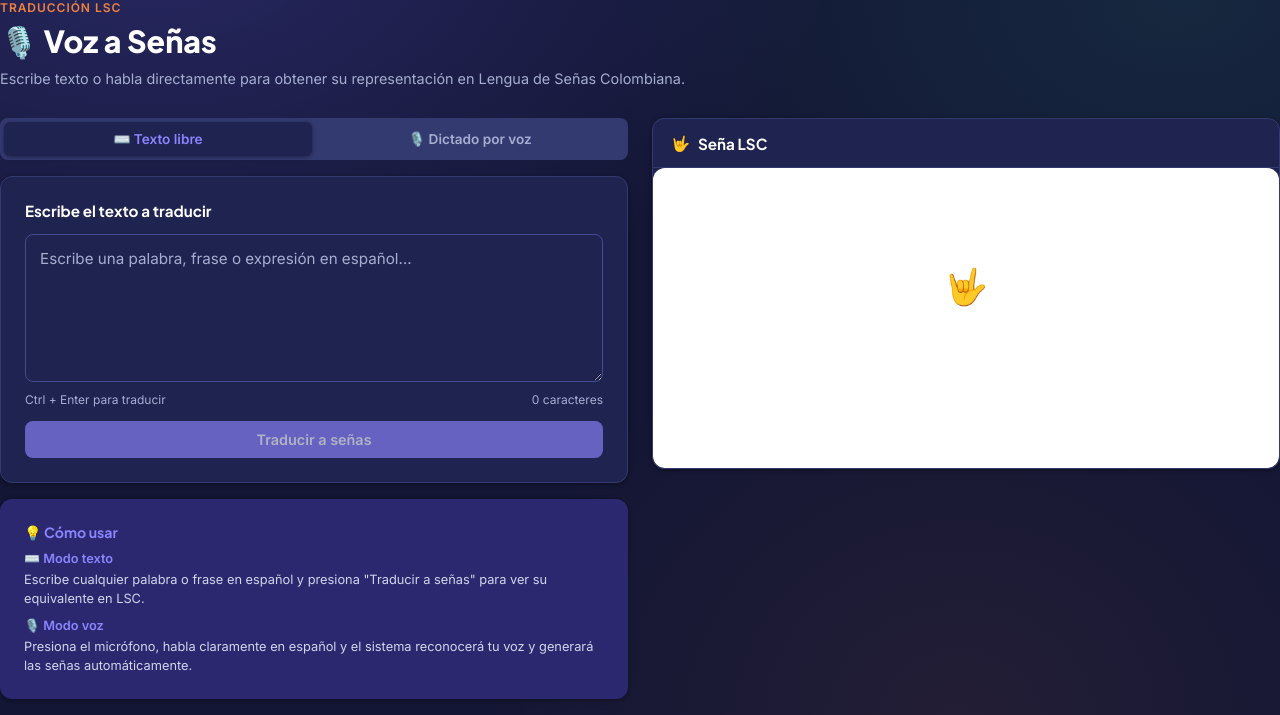
Test case: VoiceToSign › should show an error when the API explains the problem
Type "123" into the text box with placeholder "Escribe una palabra, frase o expresión en español…". click: (314, 308)
box: [25,234,603,382]
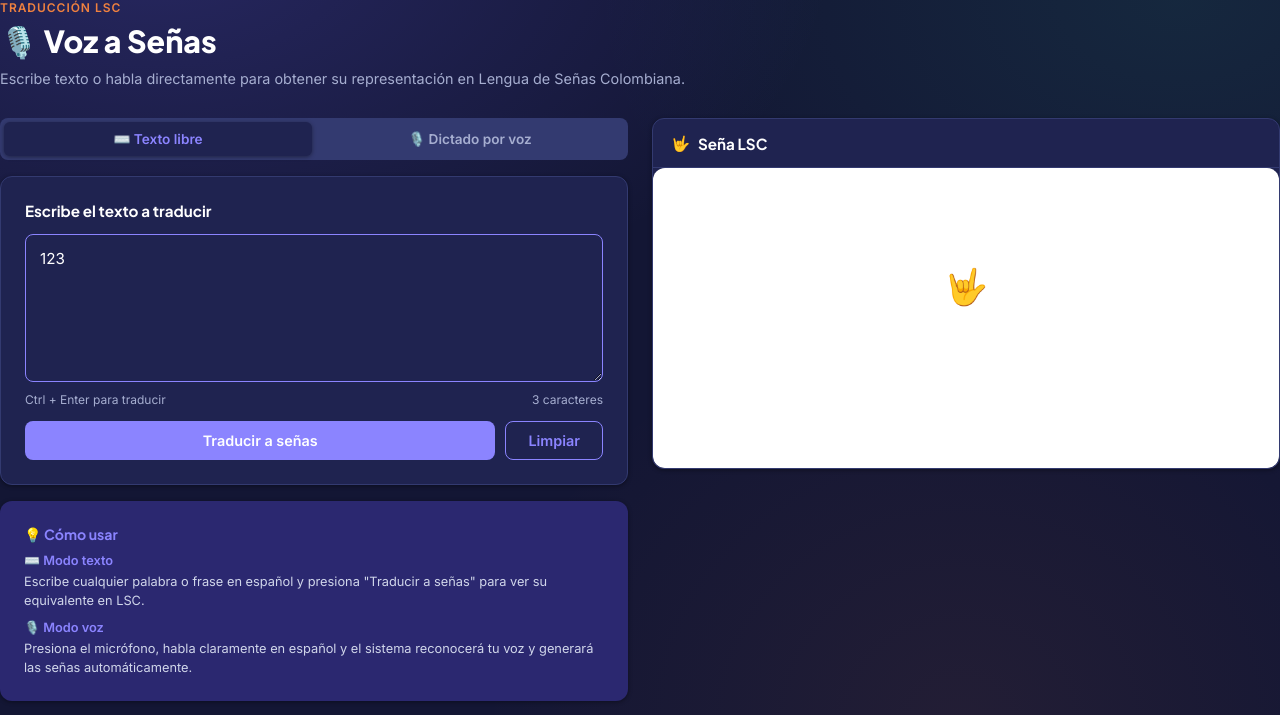
Click the button "Traducir a señas". click: (260, 440)
box: [25,420,495,460]
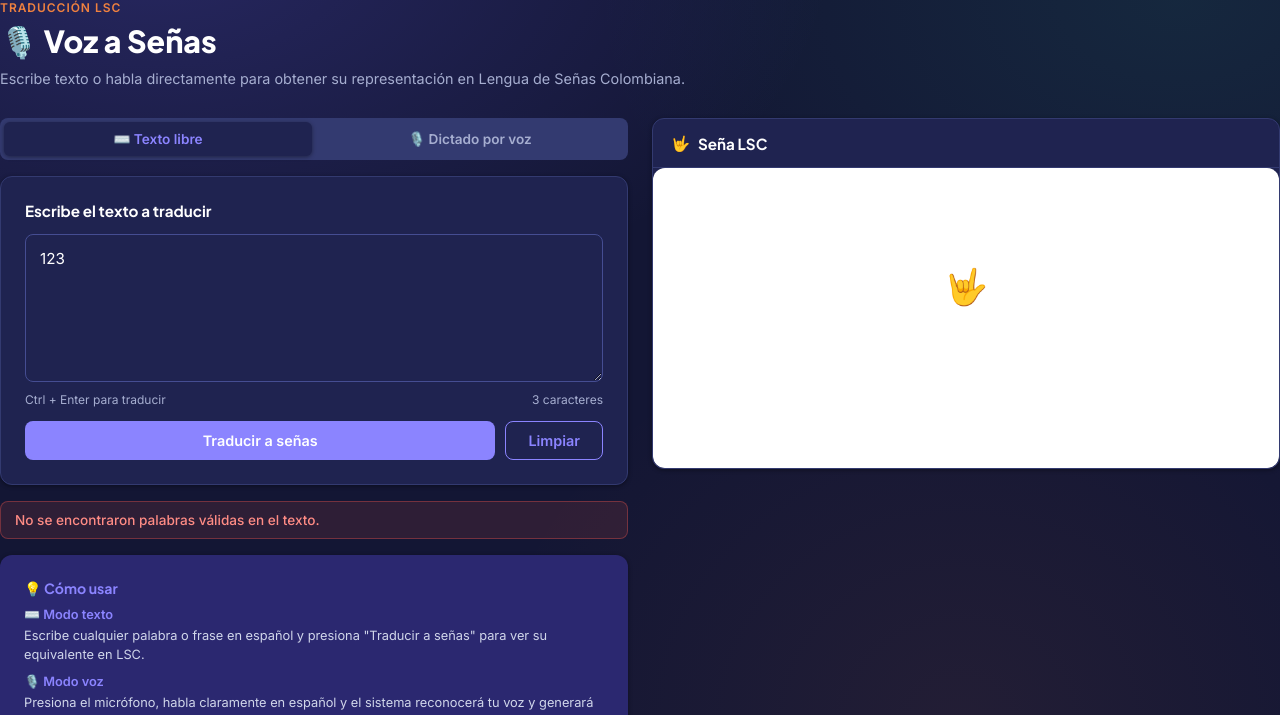
Now the text "No se encontraron palabras válidas en el texto." is shown, box [0,500,628,538]
